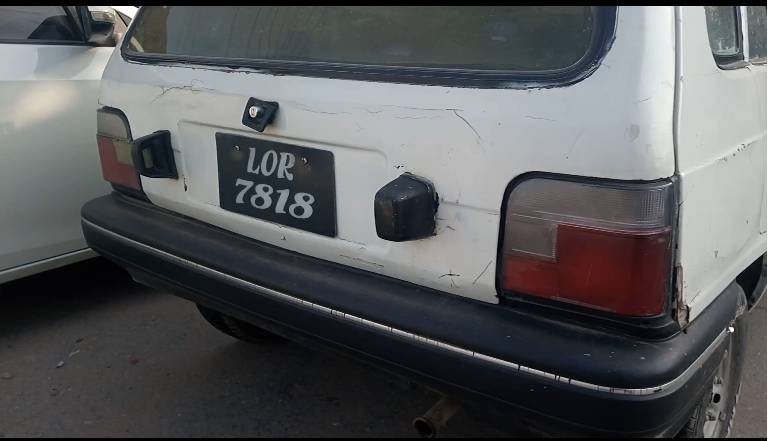number_plate: (212, 131, 347, 243)
